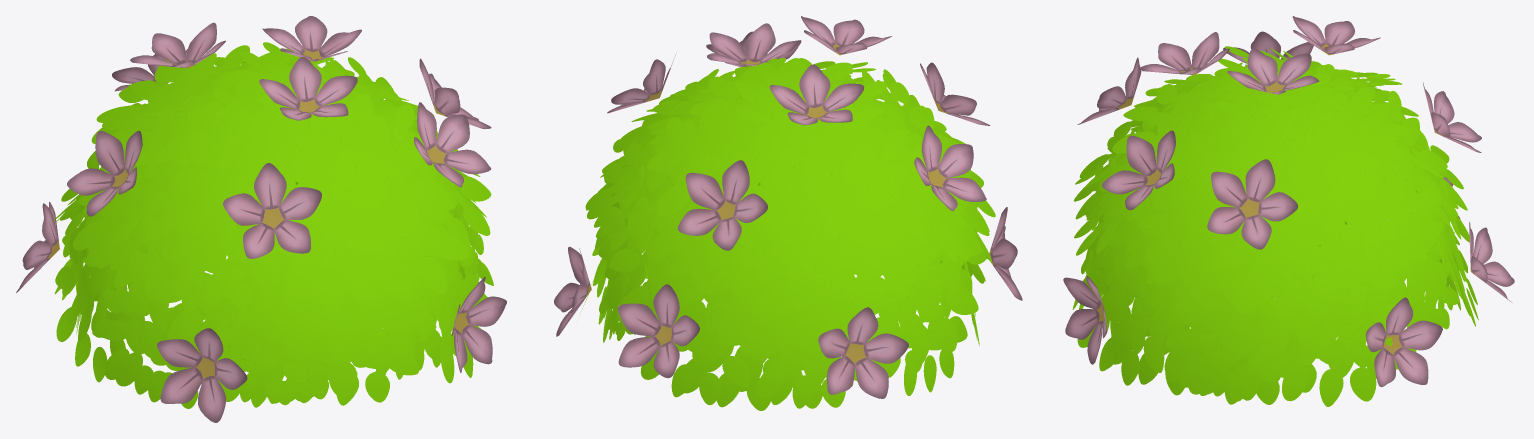
File: Bush_Flowers.glb
3 views of the same model, side by side, from view 1: azimuth 30°, elevation 25°; view 2: azimuth 150°, elevation 25°; view 3: azimuth 270°, elevation 25° (orthographic). The views are drawn at different scales.
Parts seen in each view (by area): view 1: Bush_Flowers; view 2: Bush_Flowers; view 3: Bush_Flowers.
Part boxes in pixels (<box>): Bush_Flowers: <box>16,16,506,422</box>; Bush_Flowers: <box>554,16,1022,410</box>; Bush_Flowers: <box>1063,16,1514,406</box>.
Size of the model in its own units: 1.09 by 0.7586 by 1.11.
2 materials, 2 textured.
